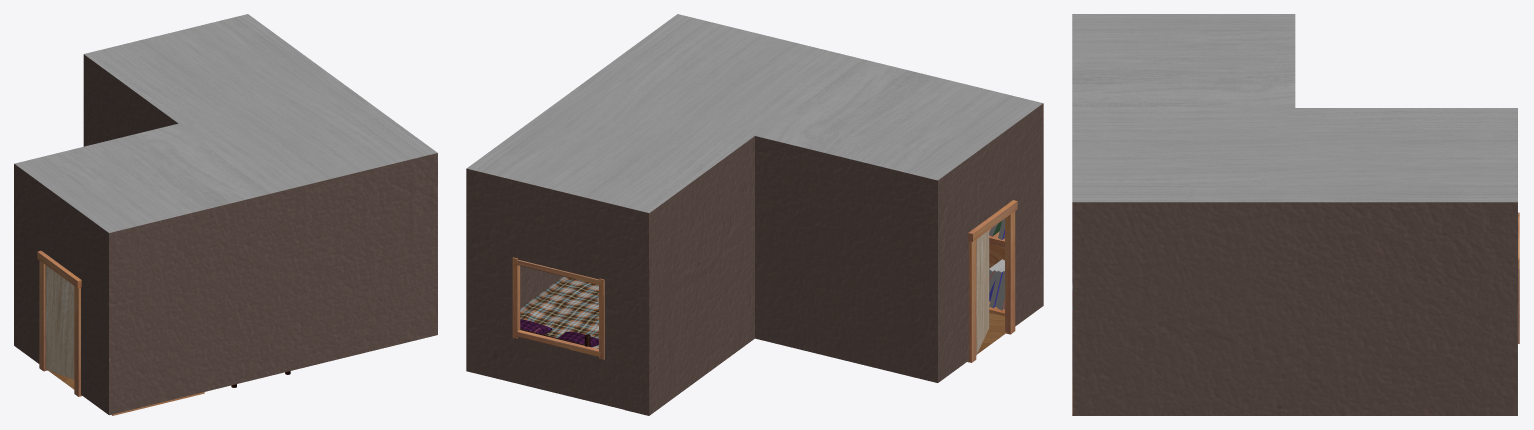
The model's file is bedroom.glb.
3 views of the same model, side by side, from view 1: azimuth 30°, elevation 25°; view 2: azimuth 150°, elevation 25°; view 3: azimuth 270°, elevation 25° (orthographic). The views are drawn at different scales.
Visible parts, largest first — view 1: bedroomBaked; view 2: bedroomBaked; view 3: bedroomBaked.
Part boxes in pixels (x1,y1,x2,y2): bedroomBaked: (14, 14, 437, 415); bedroomBaked: (466, 14, 1043, 415); bedroomBaked: (1072, 14, 1519, 415).
Size of the model in its own units: 80.45 by 44.11 by 79.72.
Materials: 1 (1 with a texture image).
